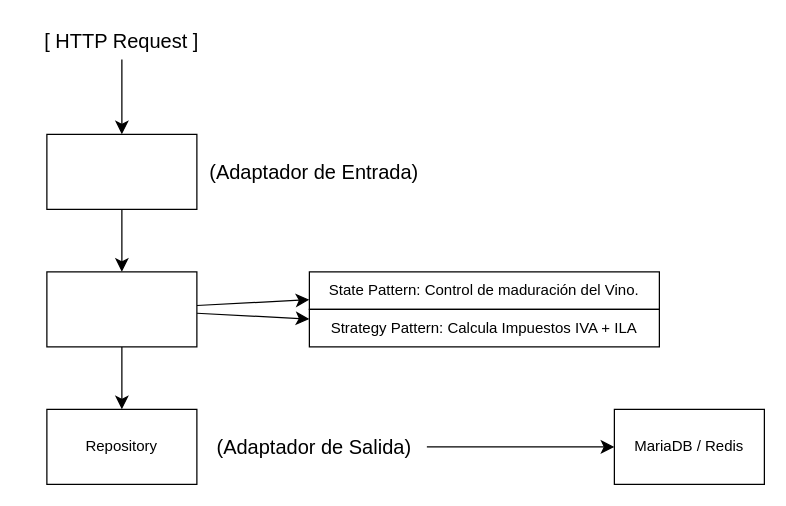
Some shapes in this 786 by 506 pixel diagram are drawn without their labels. The box of each missing label's shape, as (x1, y1, x2, y2) in pixels:
Controller: (46, 133, 197, 209)
Service: (46, 271, 197, 347)
